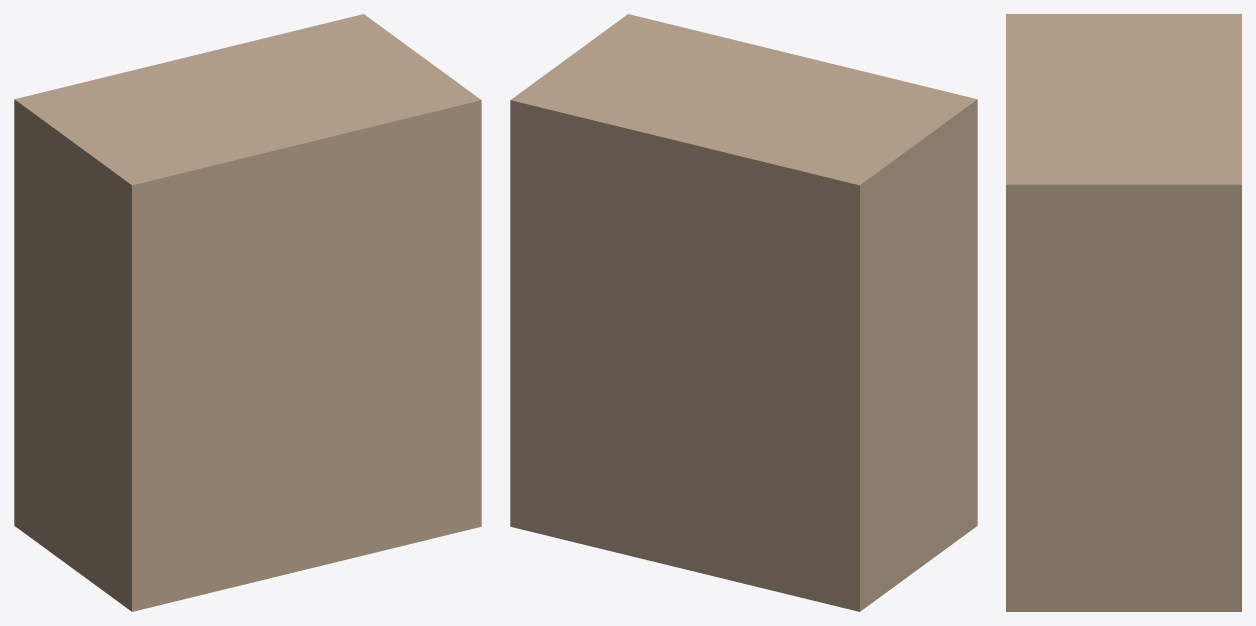
File: kit_wall_060.glb
3 renders of one model, left to right at view 1: azimuth 30°, elevation 25°; view 2: azimuth 150°, elevation 25°; view 3: azimuth 270°, elevation 25°, orthographic.
Parts seen in each view (by area): view 1: kit_wall_060; view 2: kit_wall_060; view 3: kit_wall_060.
Part boxes in pixels (x1=…): kit_wall_060: x1=14, y1=14, x2=481, y2=611; kit_wall_060: x1=510, y1=14, x2=977, y2=611; kit_wall_060: x1=1006, y1=14, x2=1241, y2=611.
Size of what is drawn, in the model's own units: 0.6 by 0.7 by 0.35.
